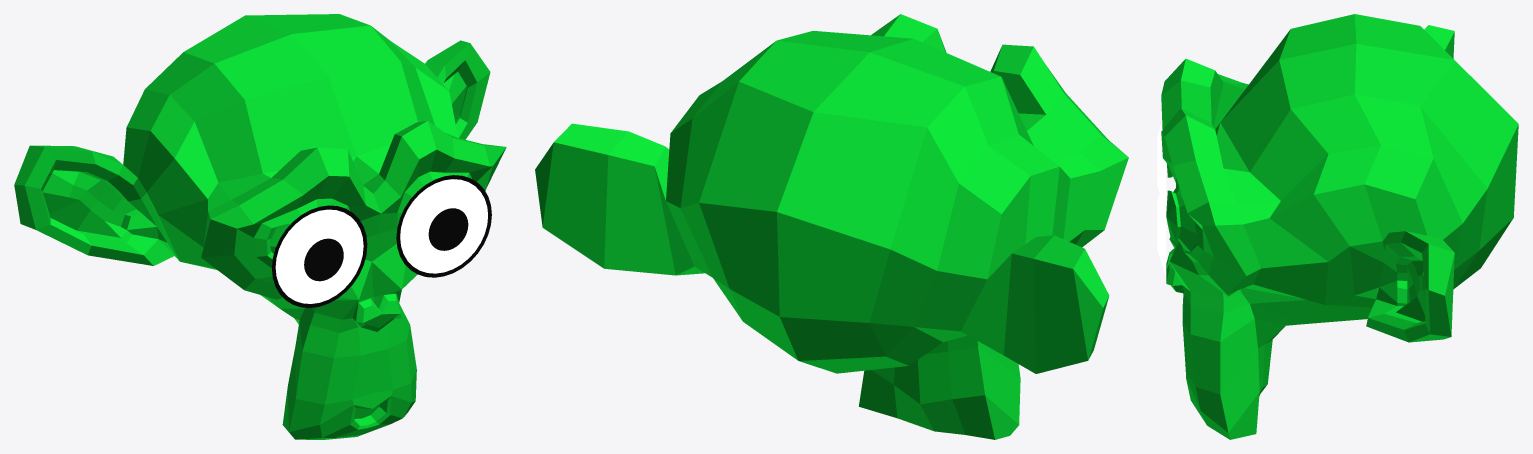
The model's file is Monkey.glb.
3 views of the same model, side by side, from view 1: azimuth 30°, elevation 25°; view 2: azimuth 150°, elevation 25°; view 3: azimuth 270°, elevation 25° (orthographic). The views are drawn at different scales.
Parts seen in each view (by area): view 1: Monkey; view 2: Monkey; view 3: Monkey.
Boxes of the visible parts, <box> form: Monkey: <box>14,14,506,439</box>; Monkey: <box>535,14,1128,439</box>; Monkey: <box>1157,14,1518,439</box>.
Size of the model in its own units: 3.93 by 2.83 by 2.48.
